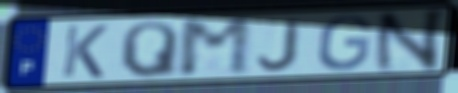G: (314, 13, 374, 73)
J: (254, 16, 305, 73)
K: (59, 23, 111, 80)
M: (177, 15, 254, 79)
N: (371, 6, 450, 75)
Q: (118, 19, 180, 80)
